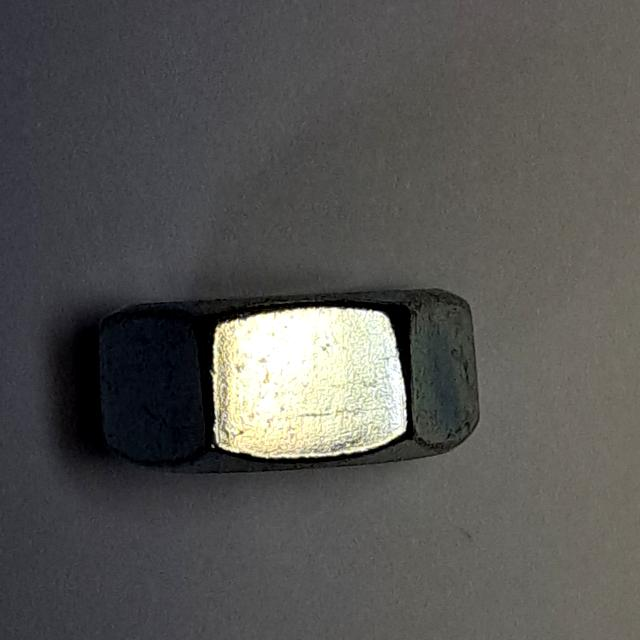Side_Excellent: (83, 261, 497, 496)
